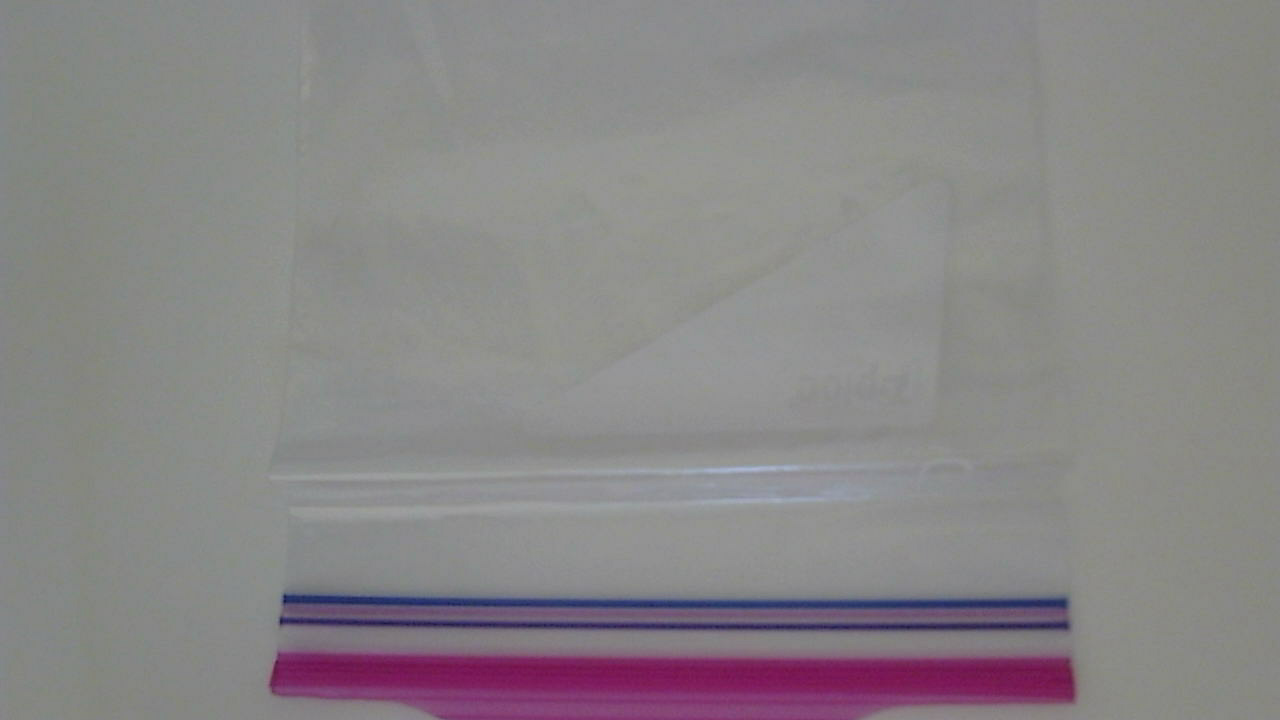Plastic Bag: (292, 7, 1079, 720)
